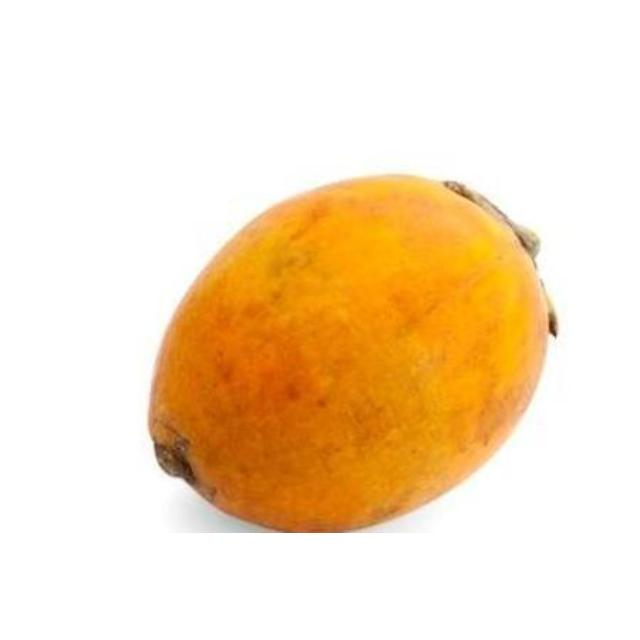good: (146, 175, 555, 532)
